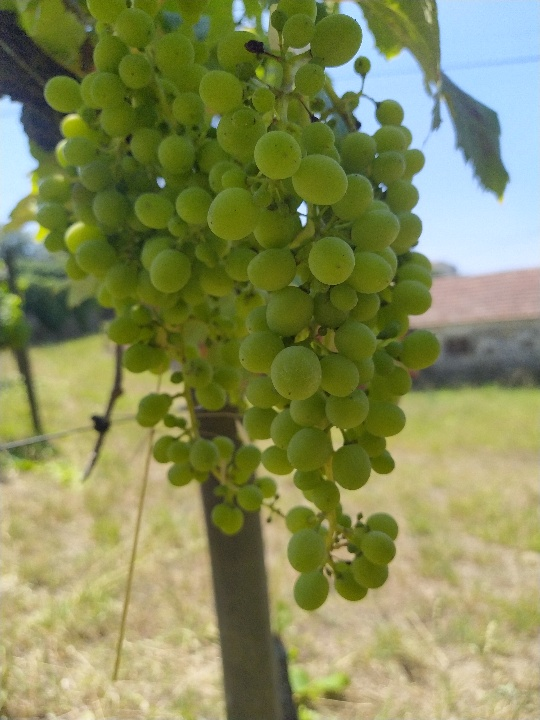grape: (36, 3, 443, 613)
